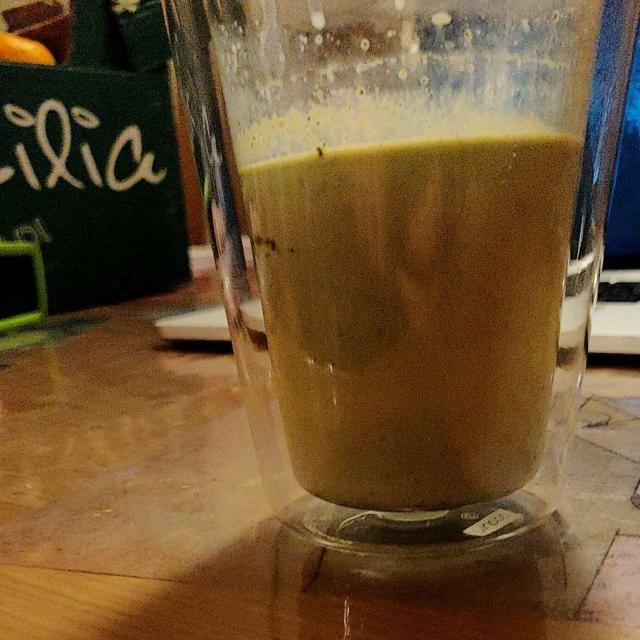milk: (252, 130, 573, 507)
